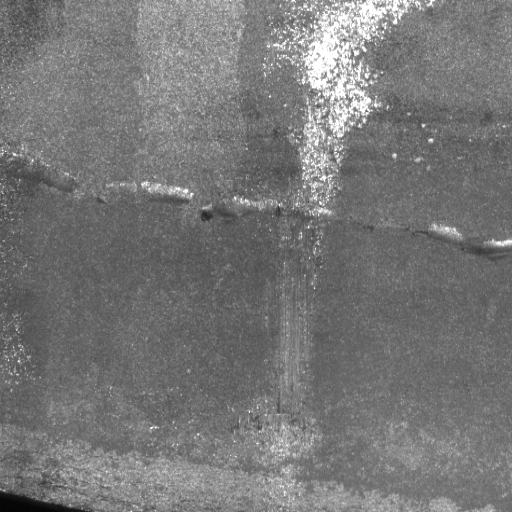aokeng: (201, 191, 512, 260), (3, 153, 81, 194), (99, 176, 195, 209)
